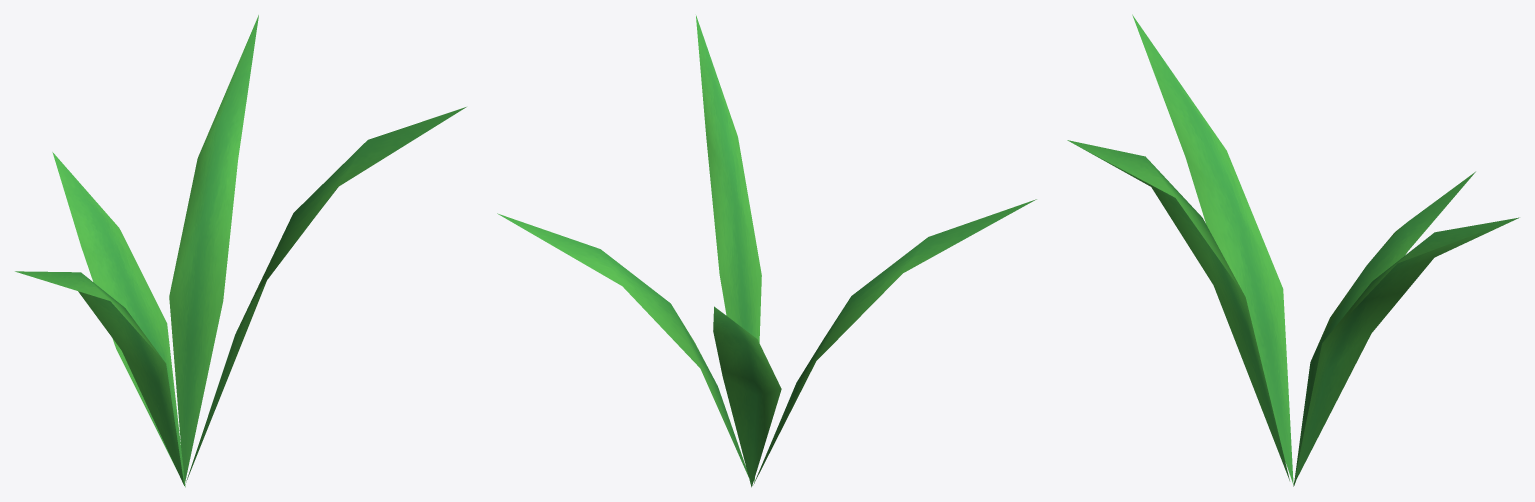
The model's file is Grass_Clump_3.fbx.
3 views of the same model, side by side, from view 1: azimuth 30°, elevation 25°; view 2: azimuth 150°, elevation 25°; view 3: azimuth 270°, elevation 25° (orthographic). The views are drawn at different scales.
Parts seen in each view (by area): view 1: object6.077, object6.076, object6.075, object6.078; view 2: object6.078, object6.076, object6.077, object6.075; view 3: object6.075, object6.077, object6.078, object6.076.
Boxes of the visible parts, bbox=[...] form: object6.077: bbox=[169, 15, 258, 485]; object6.076: bbox=[52, 152, 185, 487]; object6.075: bbox=[15, 271, 184, 485]; object6.078: bbox=[186, 107, 466, 482]; object6.078: bbox=[696, 15, 761, 483]; object6.076: bbox=[713, 306, 781, 487]; object6.077: bbox=[497, 213, 752, 485]; object6.075: bbox=[753, 199, 1036, 484]; object6.075: bbox=[1132, 14, 1293, 484]; object6.077: bbox=[1293, 217, 1519, 485]; object6.078: bbox=[1067, 140, 1289, 480]; object6.076: bbox=[1293, 171, 1475, 486].
Bounding box in the file's own units: 55.22 × 51.22 × 48.36.
